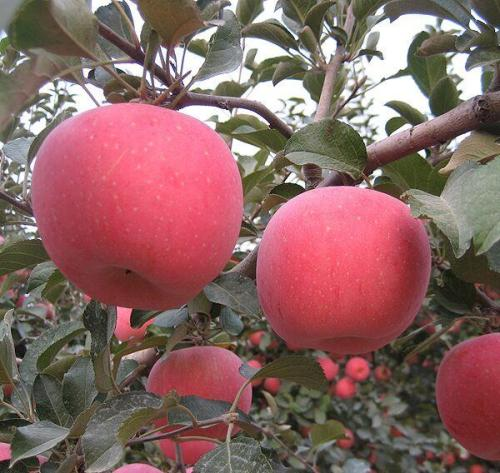apple: (32, 101, 247, 310), (257, 185, 432, 354)
obscured(1)_apple: (147, 348, 256, 438)
